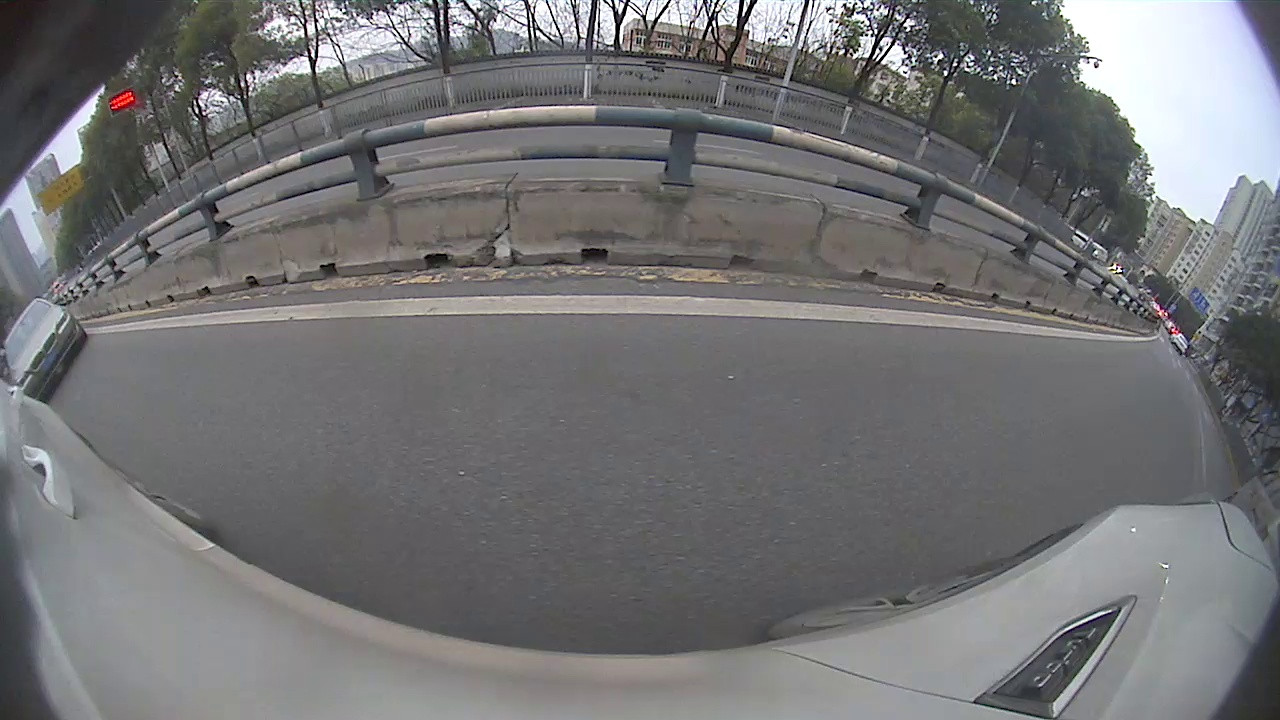car: (1, 293, 91, 408)
